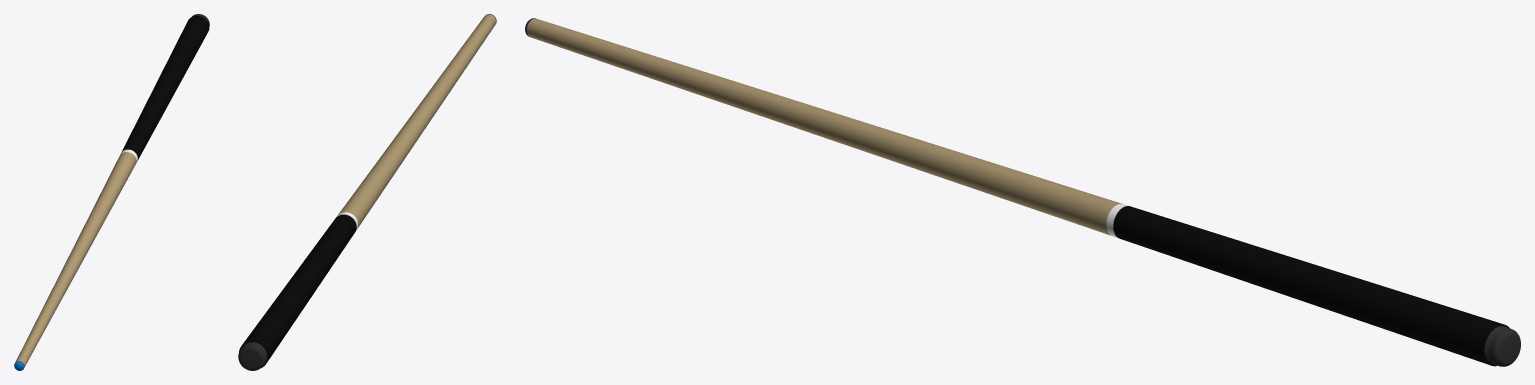
The model's file is CueStick_A_Source.fbx.
3 views of the same model, side by side, from view 1: azimuth 30°, elevation 25°; view 2: azimuth 210°, elevation 25°; view 3: azimuth 270°, elevation 25° (orthographic). The views are drawn at different scales.
Visible parts, largest first — view 1: CueStick_A; view 2: CueStick_A; view 3: CueStick_A.
Boxes of the visible parts, <box> form: CueStick_A: <box>14,14,209,370</box>; CueStick_A: <box>238,14,496,370</box>; CueStick_A: <box>525,18,1520,366</box>.
Bounding box in the file's own units: 89.9 × 11.13 × 92.04.
